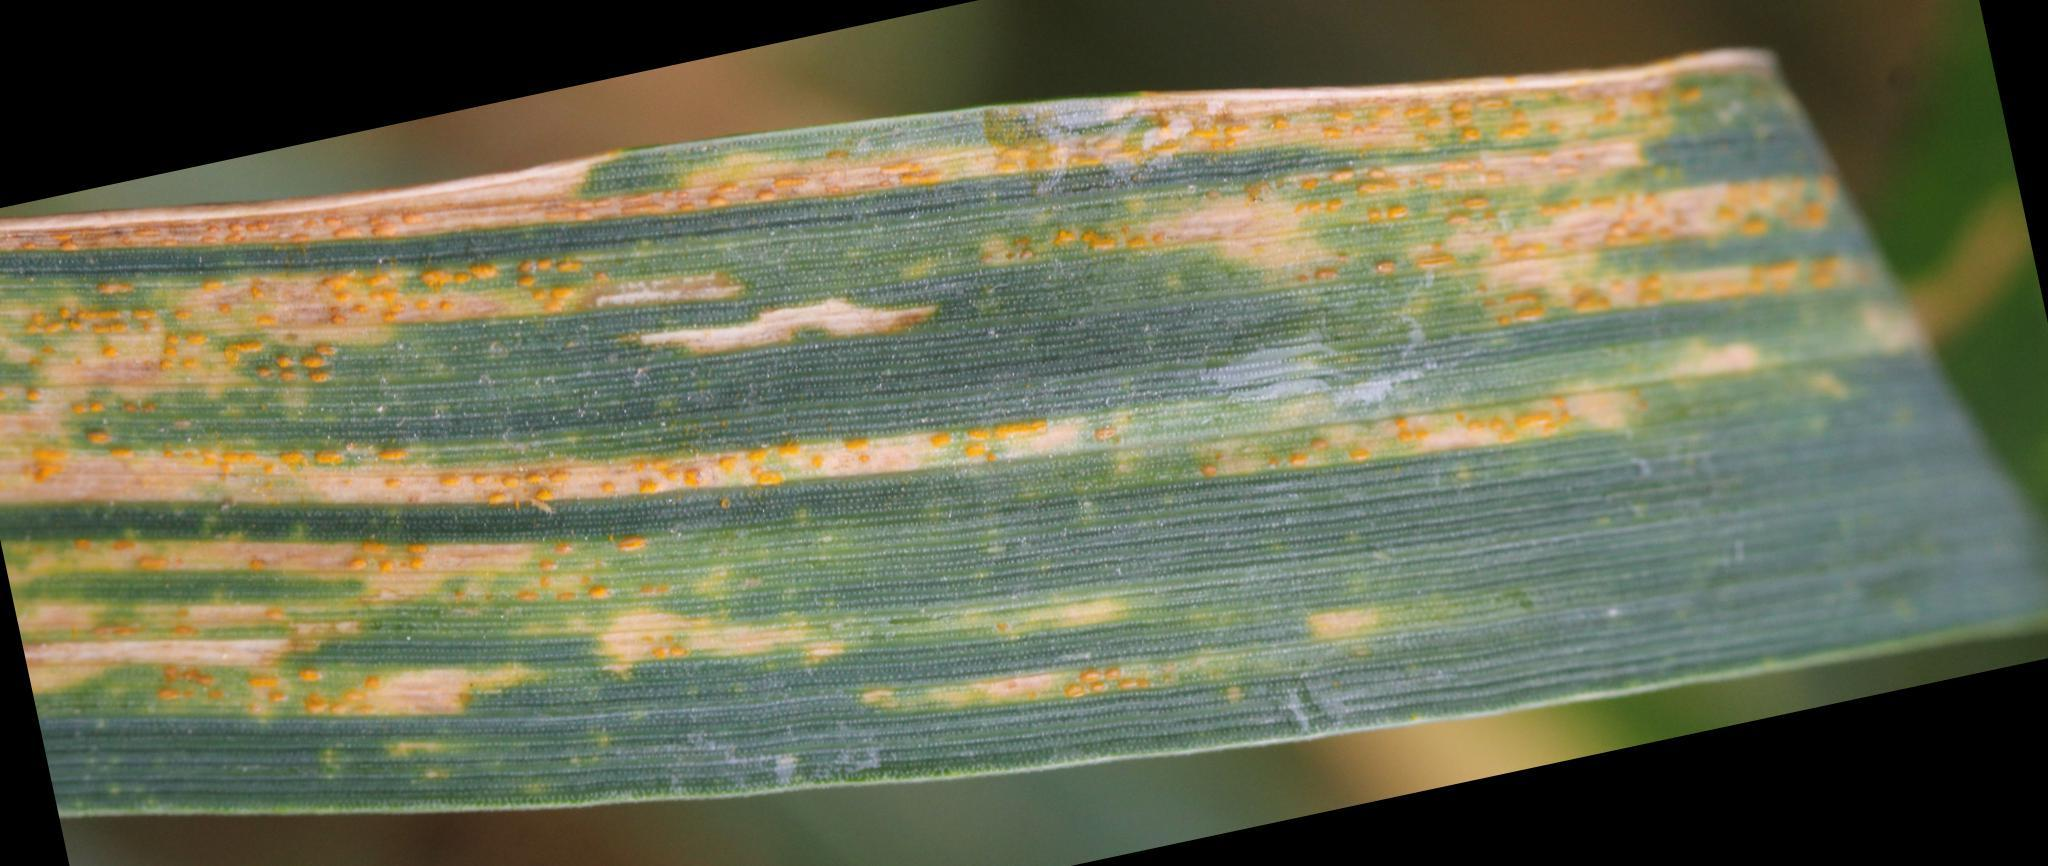Wheat: (4, 182, 806, 798), (713, 115, 1339, 738), (1260, 89, 1921, 539)
